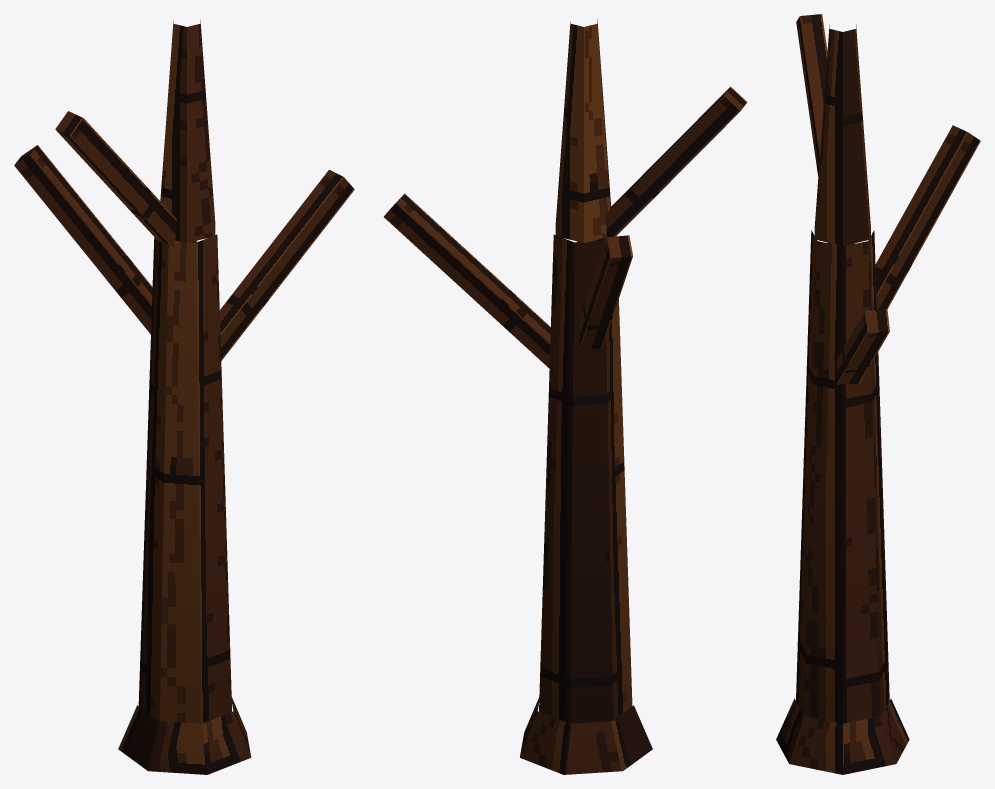
The model's file is apple_2_trunk.glb.
3 renders of one model, left to right at view 1: azimuth 30°, elevation 25°; view 2: azimuth 150°, elevation 25°; view 3: azimuth 270°, elevation 25°, orthographic.
Visible parts, largest first — view 1: apple_2_trunk; view 2: apple_2_trunk; view 3: apple_2_trunk.
Part boxes in pixels (left/top/right/bottom): apple_2_trunk: left=14, top=20, right=354, bottom=774; apple_2_trunk: left=384, top=19, right=747, bottom=774; apple_2_trunk: left=776, top=14, right=980, bottom=774.
Bounding box in the file's own units: 1.95 × 4.18 × 1.08.
1 material, 1 textured.
